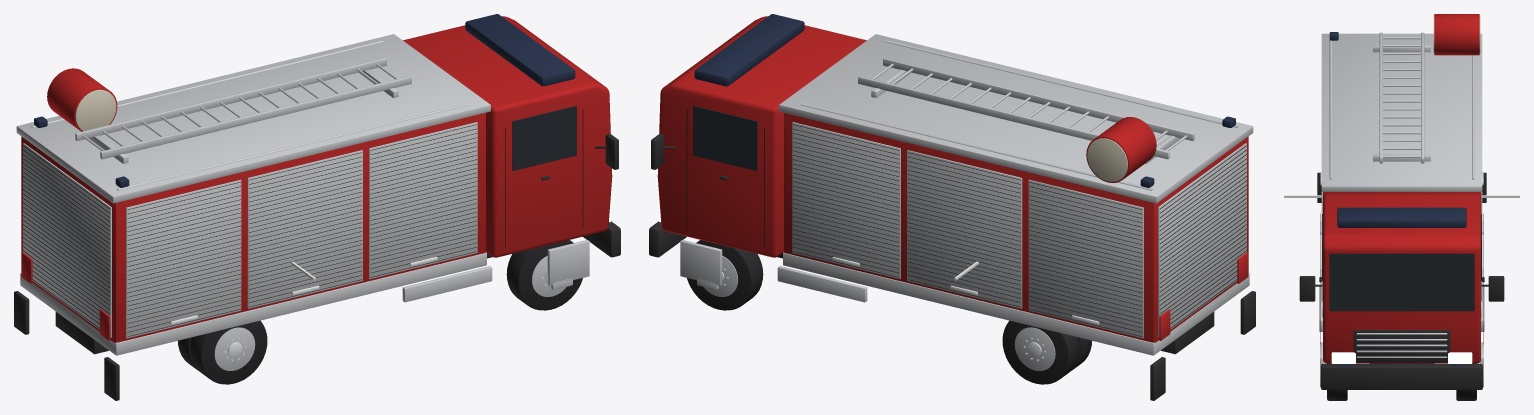
The model's file is autopompa.glb.
The picture shows the model from 3 angles, left to right: view 1: azimuth 30°, elevation 25°; view 2: azimuth 150°, elevation 25°; view 3: azimuth 270°, elevation 25°; orthographic projection. The views are drawn at different scales.
Parts seen in each view (by area): view 1: vvf_serrande, vvf_corpo, vvf_cabina, vvf_tetto, vvf_ruote, vvf_lampeggianti, vvf_vetri, vvf_fari; view 2: vvf_serrande, vvf_corpo, vvf_cabina, vvf_tetto, vvf_ruote, vvf_lampeggianti, vvf_vetri, vvf_fari; view 3: vvf_corpo, vvf_cabina, vvf_vetri, vvf_tetto, vvf_lampeggianti, vvf_fari, vvf_ruote, vvf_serrande.
Boxes of the visible parts, x1=… form: vvf_serrande: x1=23, y1=122, x2=477, y2=338; vvf_corpo: x1=14, y1=34, x2=492, y2=400; vvf_cabina: x1=403, y1=16, x2=620, y2=289; vvf_tetto: x1=31, y1=40, x2=469, y2=190; vvf_ruote: x1=178, y1=240, x2=582, y2=384; vvf_lampeggianti: x1=34, y1=14, x2=575, y2=187; vvf_vetri: x1=512, y1=105, x2=576, y2=170; vvf_fari: x1=21, y1=208, x2=610, y2=340; vvf_serrande: x1=792, y1=122, x2=1246, y2=338; vvf_corpo: x1=777, y1=34, x2=1255, y2=400; vvf_cabina: x1=649, y1=16, x2=866, y2=289; vvf_tetto: x1=800, y1=40, x2=1238, y2=190; vvf_ruote: x1=687, y1=240, x2=1091, y2=384; vvf_lampeggianti: x1=694, y1=14, x2=1235, y2=187; vvf_vetri: x1=693, y1=105, x2=757, y2=170; vvf_fari: x1=659, y1=208, x2=1248, y2=340; vvf_corpo: x1=1284, y1=33, x2=1519, y2=363; vvf_cabina: x1=1299, y1=194, x2=1504, y2=389; vvf_vetri: x1=1322, y1=214, x2=1481, y2=311; vvf_tetto: x1=1329, y1=14, x2=1480, y2=179; vvf_lampeggianti: x1=1329, y1=32, x2=1466, y2=366; vvf_fari: x1=1331, y1=352, x2=1472, y2=363; vvf_ruote: x1=1325, y1=363, x2=1478, y2=400; vvf_serrande: x1=1320, y1=172, x2=1483, y2=301.
Bounding box in the file's own units: 7.53 × 3.82 × 3.65.
